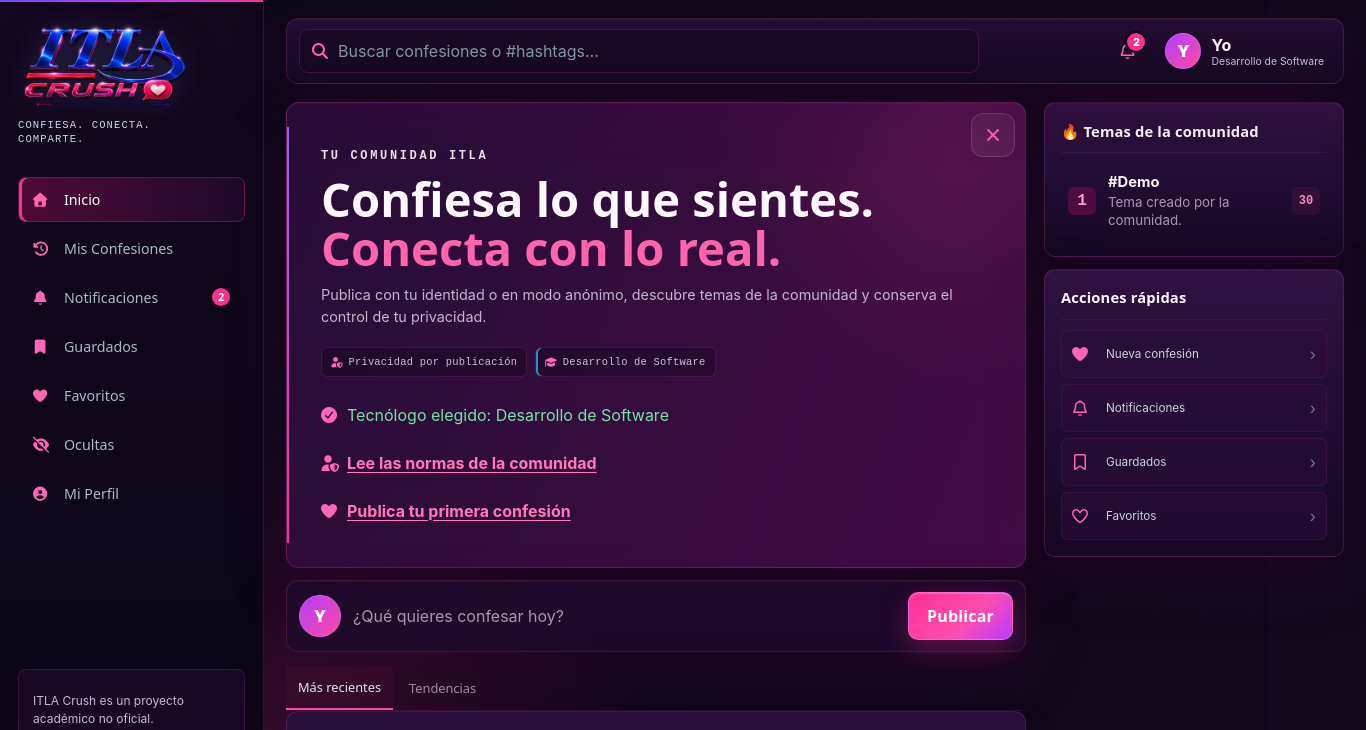
Test: fase 2: notificaciones nuevas › la campana cuenta lo nuevo, la página lo resalta y luego se marca como visto
This screenshot has width=1366, height=730.
Click the link named "Notificaciones, 2 nuevas". click: (132, 297)
box: [18, 274, 245, 320]
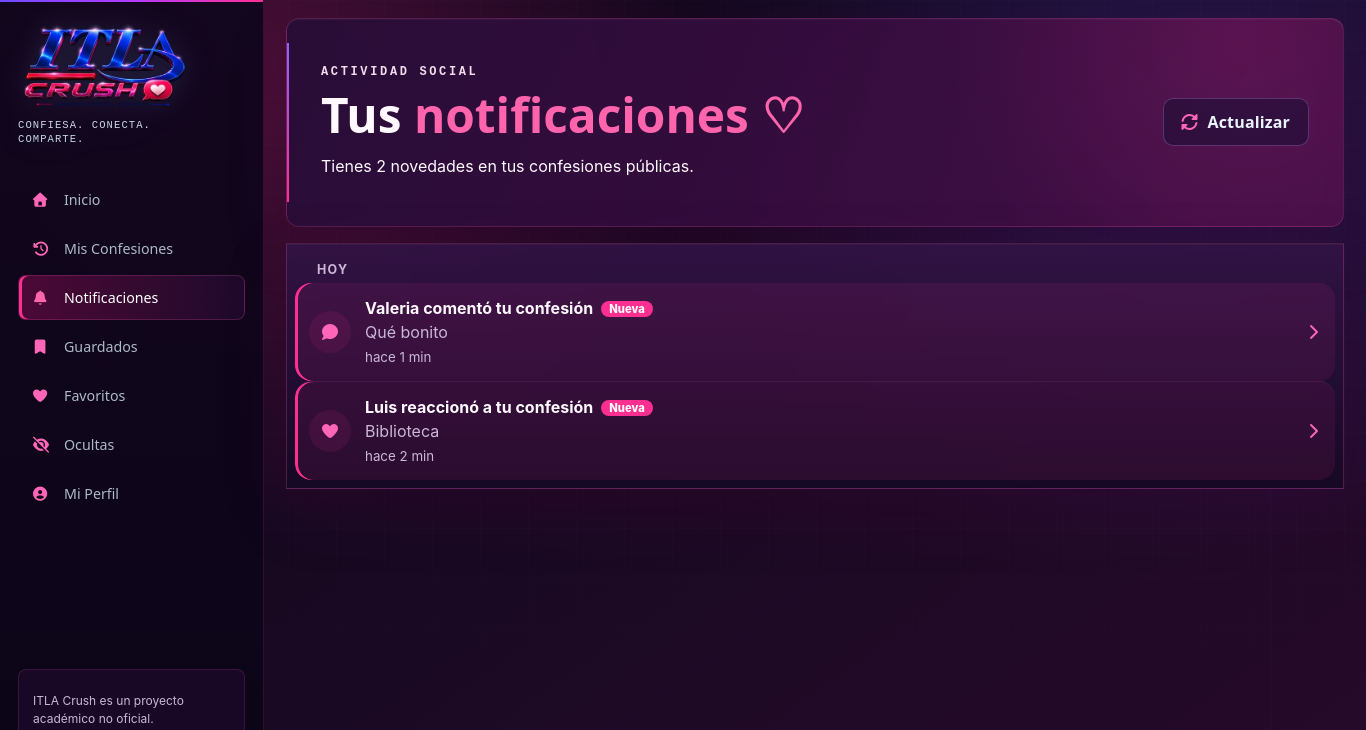
Expected: the heading "Hoy" is shown, [317, 262, 348, 277]
Expected: the text "Nueva" is shown 2 times, [601, 301, 653, 317]; [601, 400, 653, 416]
